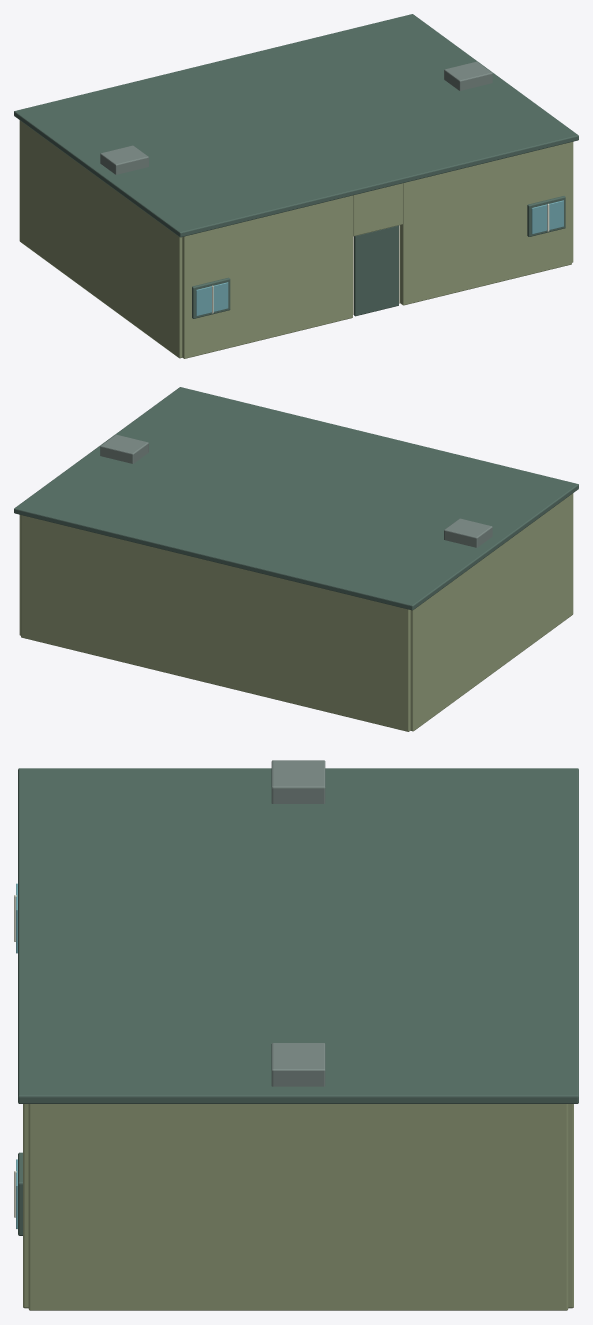
File: military-barracks.glb
3 renders of one model, top to bottom at view 1: azimuth 30°, elevation 25°; view 2: azimuth 150°, elevation 25°; view 3: azimuth 270°, elevation 25°, orthographic. The views are drawn at different scales.
Visible parts, largest first — view 1: roof-trim, shell-wall, entry door, roof-steel, shell-glass, shell-trim; view 2: shell-wall, roof-trim, roof-steel; view 3: roof-trim, shell-wall, roof-steel.
Boxes of the visible parts, bbox=[...] form: roof-trim: bbox=[14, 14, 578, 237]; shell-wall: bbox=[19, 120, 573, 358]; entry door: bbox=[354, 225, 398, 316]; roof-steel: bbox=[100, 61, 492, 174]; shell-glass: bbox=[196, 200, 563, 315]; shell-trim: bbox=[192, 196, 565, 318]; shell-wall: bbox=[19, 493, 573, 731]; roof-trim: bbox=[14, 387, 578, 610]; roof-steel: bbox=[100, 434, 492, 547]; roof-trim: bbox=[18, 768, 578, 1103]; shell-wall: bbox=[23, 1104, 573, 1310]; roof-steel: bbox=[271, 760, 325, 1086].
Size of the model in its own units: 14.4 by 4.81 by 10.47.
